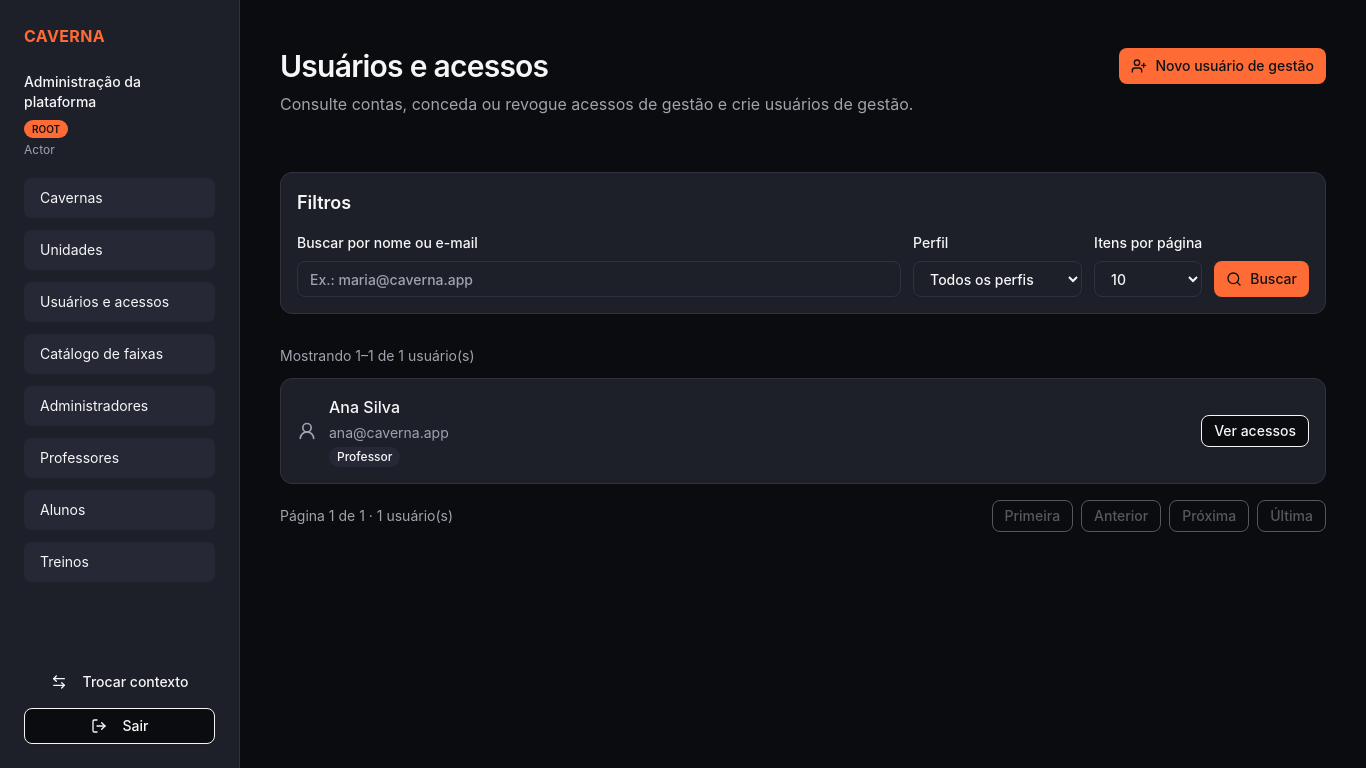
PlatformUsersPage › locks every action for the root user
This screenshot has width=1366, height=768.
Click the button "Ver acessos" at [1255, 431], box [1201,415,1309,447]
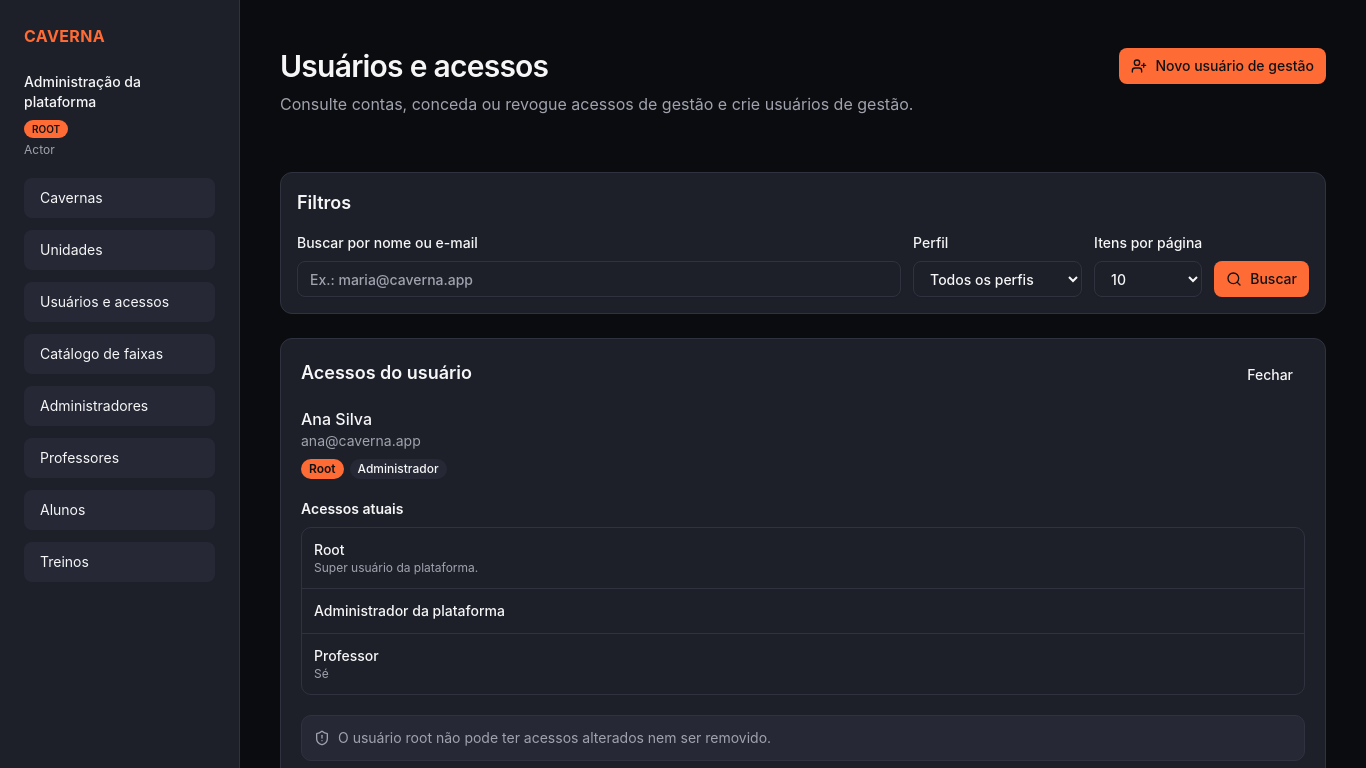
Check: the text "root não pode" is shown, box [338,729,771,746]
